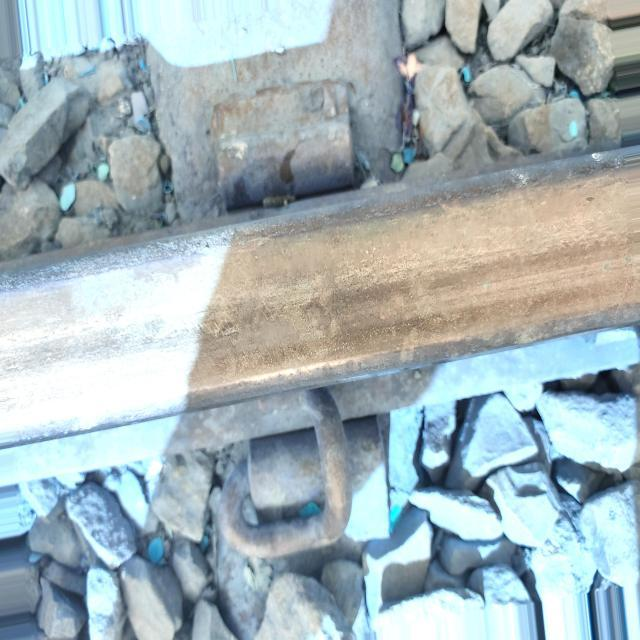Good Fasteners: (213, 365, 402, 574)
Missing Fastener: (182, 46, 379, 214)
